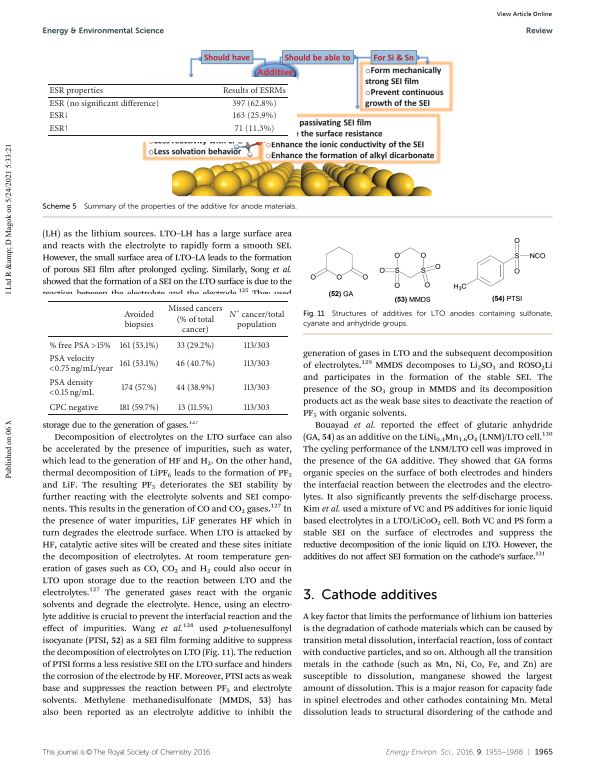borderless: (46, 299, 288, 414), (46, 82, 288, 135)
cell: (167, 304, 224, 335), (48, 353, 114, 376), (228, 305, 285, 330), (48, 99, 160, 109), (48, 377, 95, 400), (48, 336, 112, 352), (123, 309, 155, 330), (222, 86, 287, 96), (48, 402, 99, 413), (48, 86, 104, 96), (233, 123, 275, 134), (118, 402, 160, 413), (231, 99, 277, 109), (231, 111, 277, 121), (175, 358, 216, 369), (175, 382, 216, 393), (119, 358, 159, 369), (121, 382, 158, 393), (177, 402, 214, 413), (119, 340, 159, 350), (176, 340, 215, 350), (243, 358, 271, 369), (243, 382, 271, 393), (243, 402, 271, 413), (243, 340, 271, 350), (48, 123, 70, 134), (48, 111, 70, 121)
